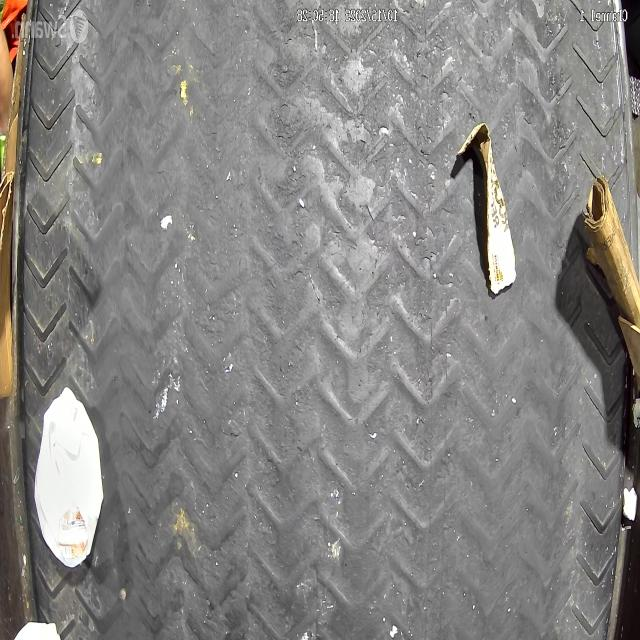milk_jug: (34, 391, 104, 571)
